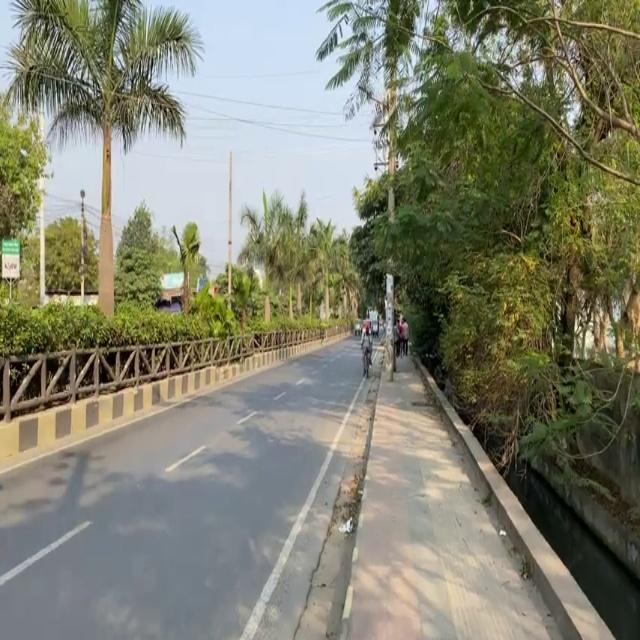Construction-barrier: (436, 416, 592, 616), (8, 374, 262, 446), (334, 340, 387, 639), (335, 342, 388, 639)
Fallen-tree: (359, 338, 373, 378)
Light-pole: (227, 150, 233, 295)
Pothole: (337, 334, 619, 639)
